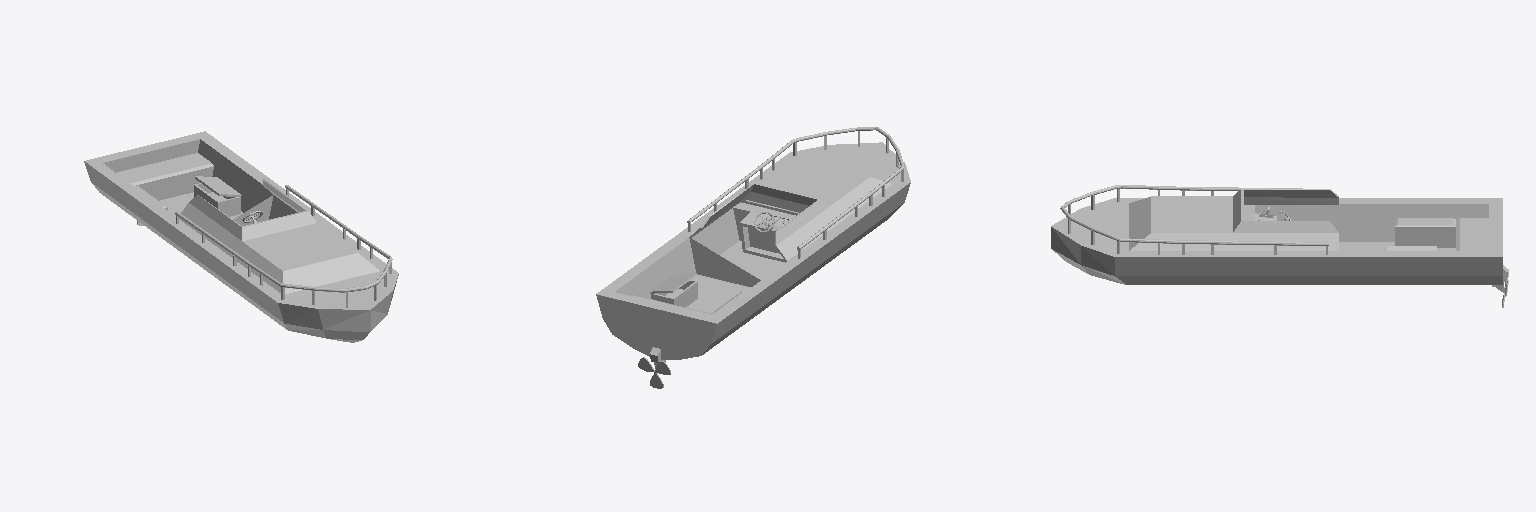
File: Barco_speeder.obj
3 views of the same model, side by side, from view 1: azimuth 30°, elevation 25°; view 2: azimuth 150°, elevation 25°; view 3: azimuth 270°, elevation 25° (orthographic).
Visible parts, largest first — view 1: Speed_Boat_Cube.021; view 2: Speed_Boat_Cube.021; view 3: Speed_Boat_Cube.021.
Part boxes in pixels (bbox=[...]): Speed_Boat_Cube.021: bbox=[84, 131, 398, 342]; Speed_Boat_Cube.021: bbox=[596, 127, 910, 388]; Speed_Boat_Cube.021: bbox=[1051, 185, 1508, 307].
Size of the model in its own units: 2.23 by 1.78 by 7.28.